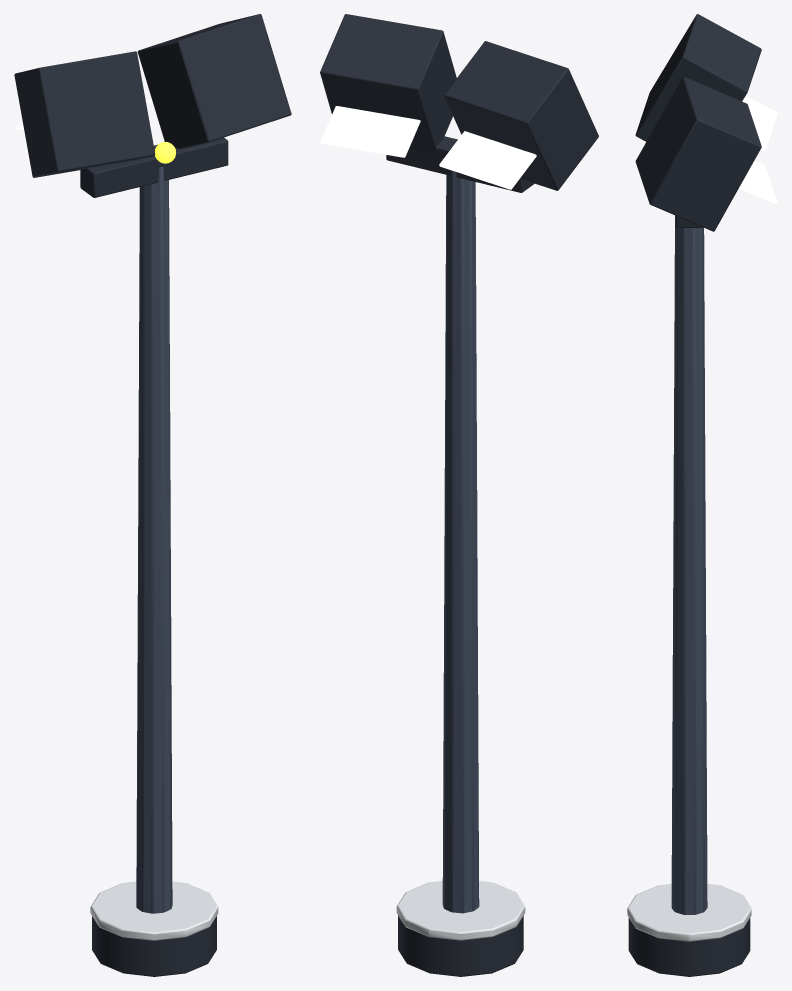
The model's file is floodlight.glb.
3 views of the same model, side by side, from view 1: azimuth 30°, elevation 25°; view 2: azimuth 150°, elevation 25°; view 3: azimuth 270°, elevation 25° (orthographic). The views are drawn at different scales.
Visible parts, largest first — view 1: floodlight; view 2: floodlight; view 3: floodlight.
Boxes of the visible parts, box(x1,y1,x2,y2) form: floodlight: box(14, 14, 291, 976); floodlight: box(320, 14, 598, 976); floodlight: box(627, 14, 777, 976).
Size of the model in its own units: 0.8671 by 3.21 by 0.4935.
